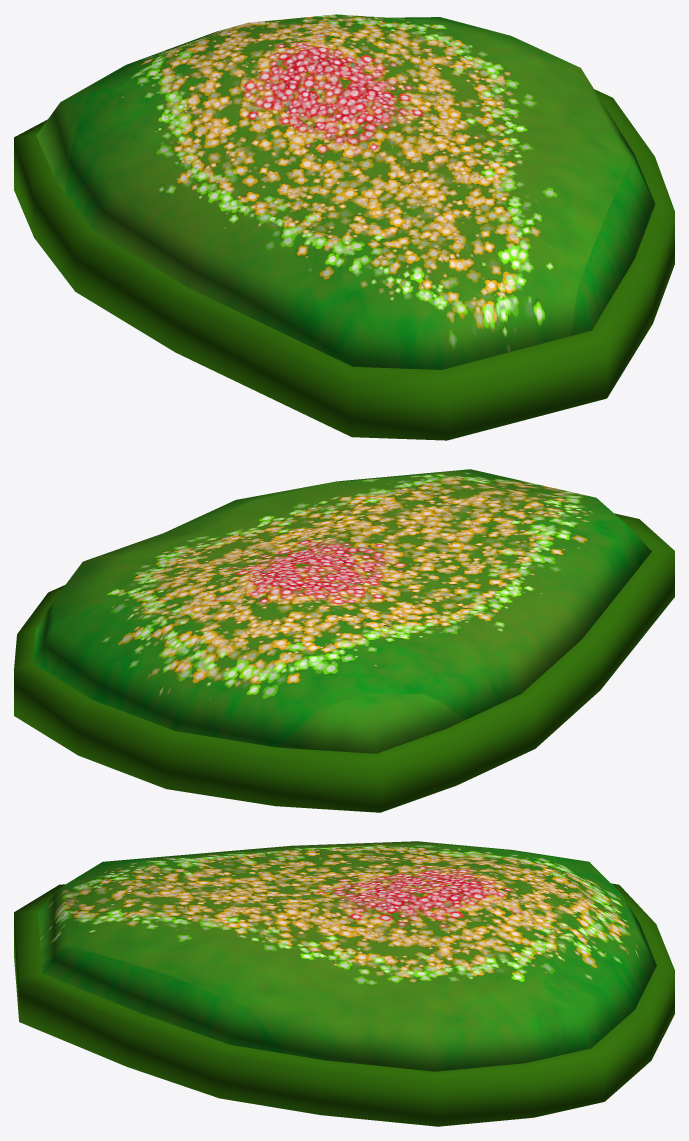
File: avocadoflowers.glb
The picture shows the model from 3 angles, top to bottom: view 1: azimuth 30°, elevation 25°; view 2: azimuth 150°, elevation 25°; view 3: azimuth 270°, elevation 25°; orthographic projection. The views are drawn at different scales.
Parts seen in each view (by area): view 1: flowerbed-convcol, Plane-convcol; view 2: flowerbed-convcol, Plane-convcol; view 3: flowerbed-convcol, Plane-convcol.
Part boxes in pixels (box(x1,y1,x2,y2)): flowerbed-convcol: box(36, 14, 655, 369); Plane-convcol: box(14, 89, 674, 440); flowerbed-convcol: box(33, 469, 651, 753); Plane-convcol: box(14, 513, 674, 812); flowerbed-convcol: box(38, 841, 656, 1071); Plane-convcol: box(14, 883, 674, 1126).
Bounding box in the file's own units: 49.61 × 13.04 × 62.47.
Materials: 2 (1 with a texture image).
